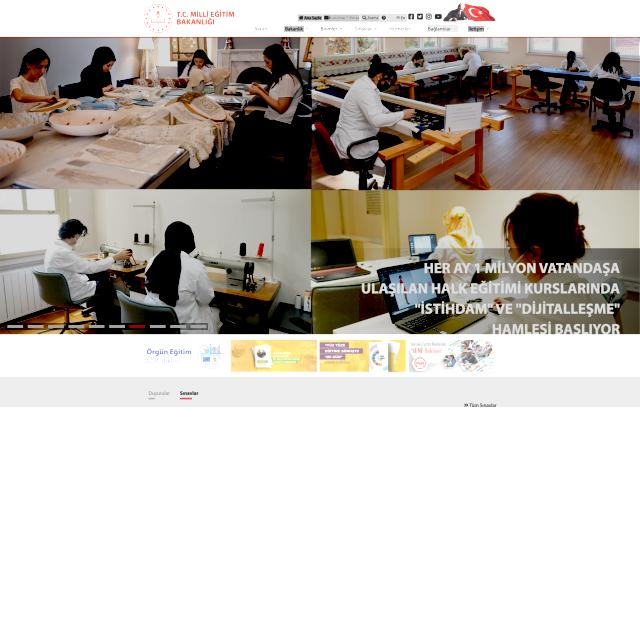CheckBox: (324, 15, 359, 21), (298, 15, 322, 21), (362, 15, 379, 21), (381, 15, 393, 21), (395, 14, 406, 20)
ImageView: (143, 339, 498, 372)
alert: (427, 25, 458, 32), (283, 25, 309, 33), (320, 24, 345, 32), (388, 26, 418, 32), (252, 25, 274, 33), (354, 25, 378, 32), (467, 25, 491, 32)
bag: (0, 0, 640, 37)
card: (0, 37, 639, 334)
carousel: (434, 13, 442, 20), (416, 13, 424, 20), (425, 13, 432, 20), (408, 13, 414, 20), (298, 15, 304, 21), (324, 15, 329, 20), (381, 15, 386, 20), (395, 15, 400, 20), (362, 15, 366, 21), (374, 27, 378, 31), (412, 27, 416, 31), (453, 27, 457, 31), (486, 27, 490, 31), (270, 27, 273, 31), (305, 27, 309, 30), (339, 28, 343, 30)
data feed: (428, 26, 452, 32), (284, 26, 304, 32), (390, 26, 410, 32), (330, 16, 360, 20), (320, 26, 338, 32), (468, 26, 484, 32), (354, 26, 373, 31), (304, 16, 322, 20), (253, 27, 268, 31), (367, 16, 379, 20), (386, 15, 394, 21), (400, 16, 406, 20)
date picker: (140, 2, 237, 34)
decoration: (251, 24, 492, 33), (298, 14, 407, 22)
dropdown: (5, 323, 208, 330)
image: (359, 260, 622, 334)
